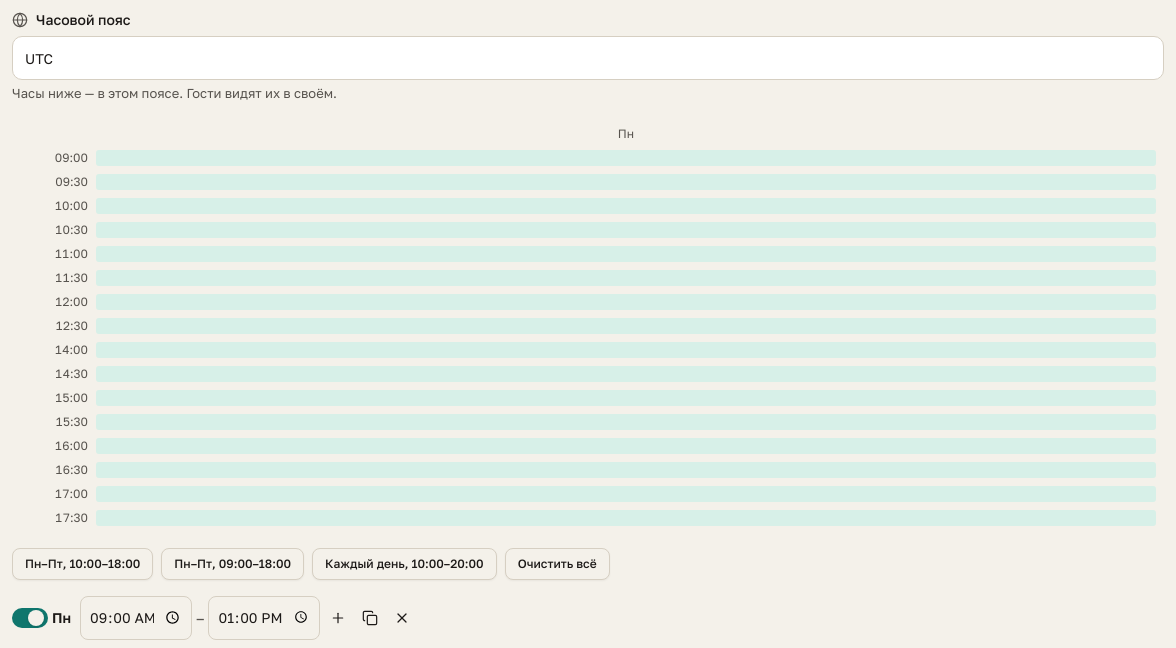
AvailabilitySettingsForm › переключает день тогглом, убирая и возвращая интервалы
Click the switch named "Пн: доступность": (30,618) [12,608,48,628]
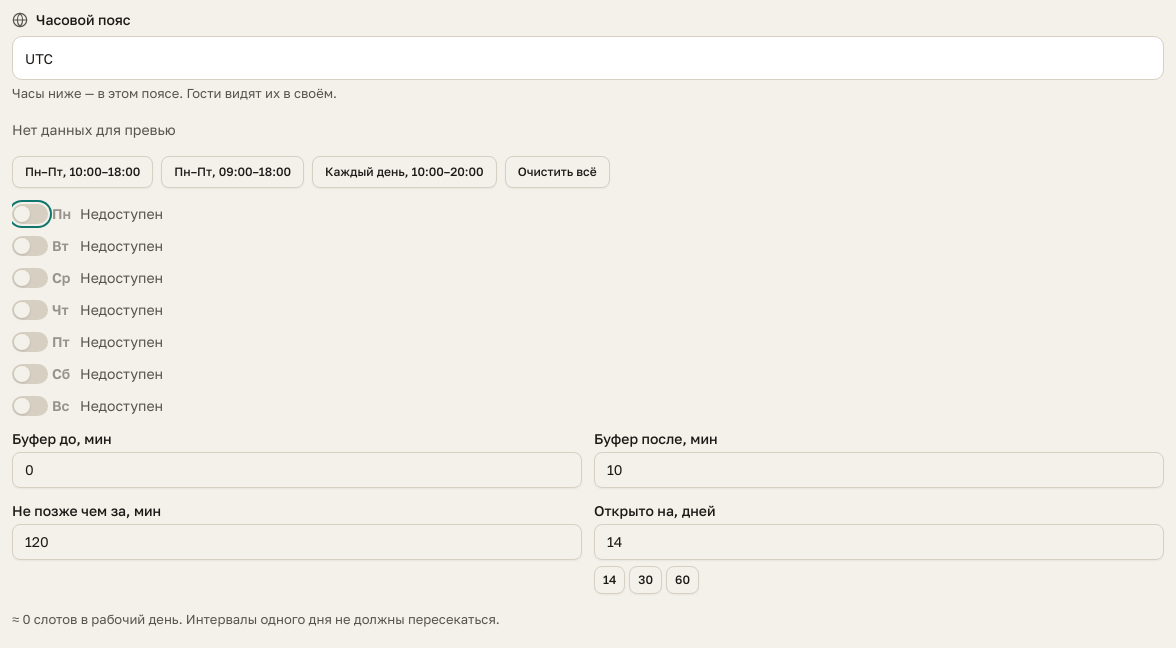
Expected: the switch named "Пн: доступность" is not checked
Click the switch named "Пн: доступность": (30,214) [12,204,48,224]
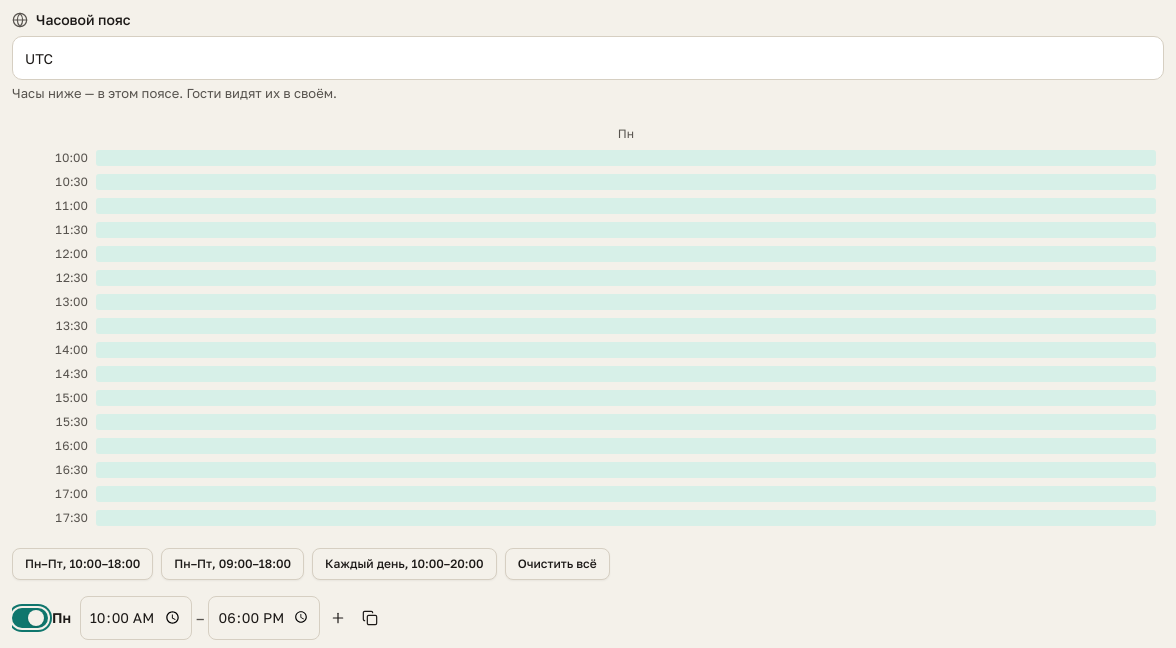
Expected: the time field named "Пн: начало 1" is shown, [80,596,192,640]
